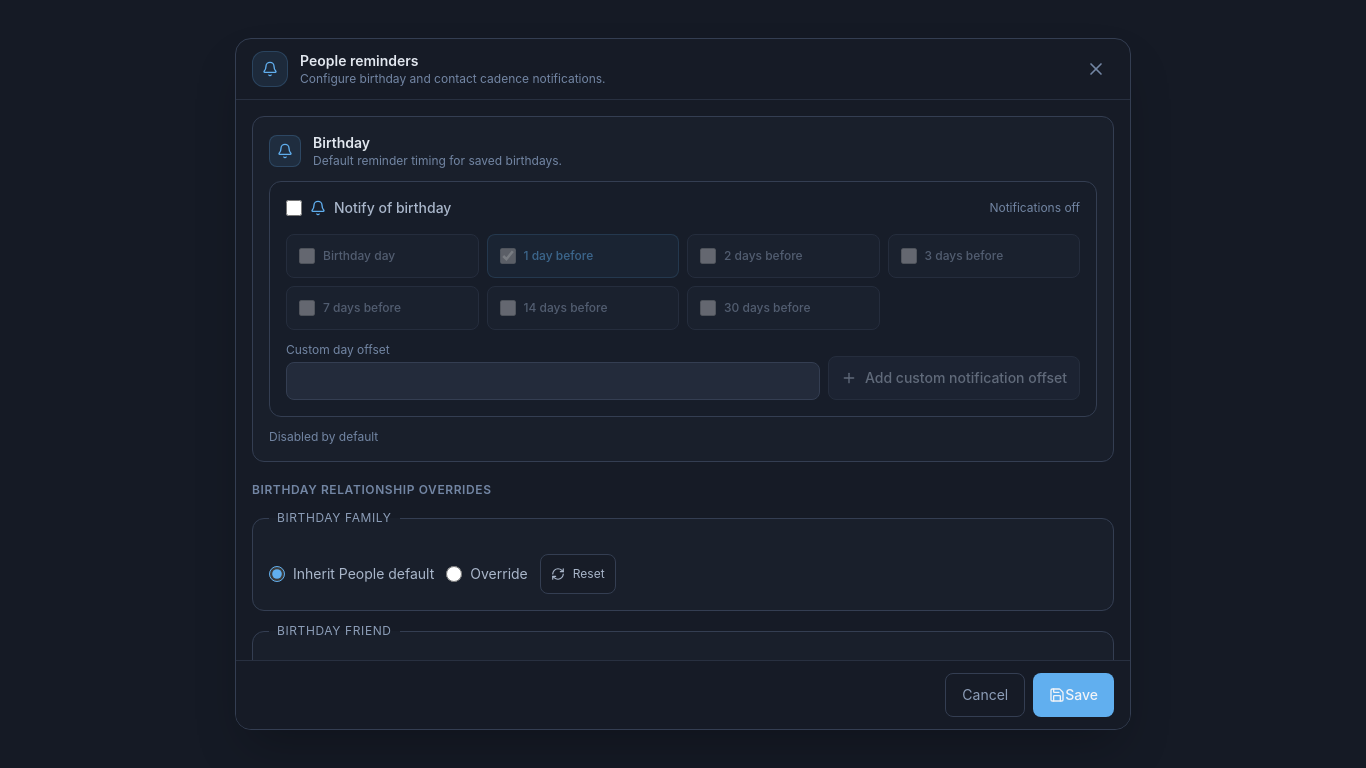
Test: PeopleNotificationSettingsDialog › keeps the dialog open and announces save failure
Click the button "Save": (1074, 695) 1033,673 -> 1114,717
(page scrolled)
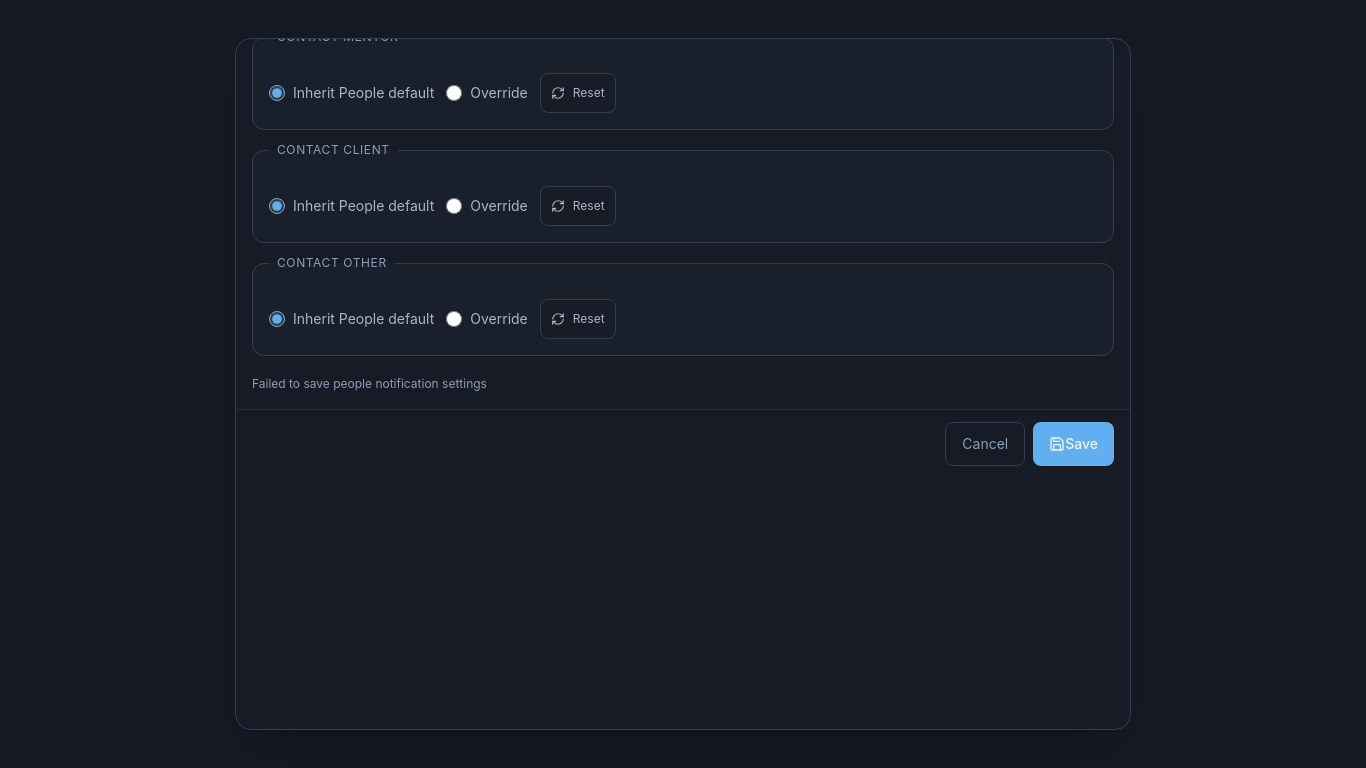
Expected: the message reads "Failed to save people notification settings", 252,376 -> 487,391
